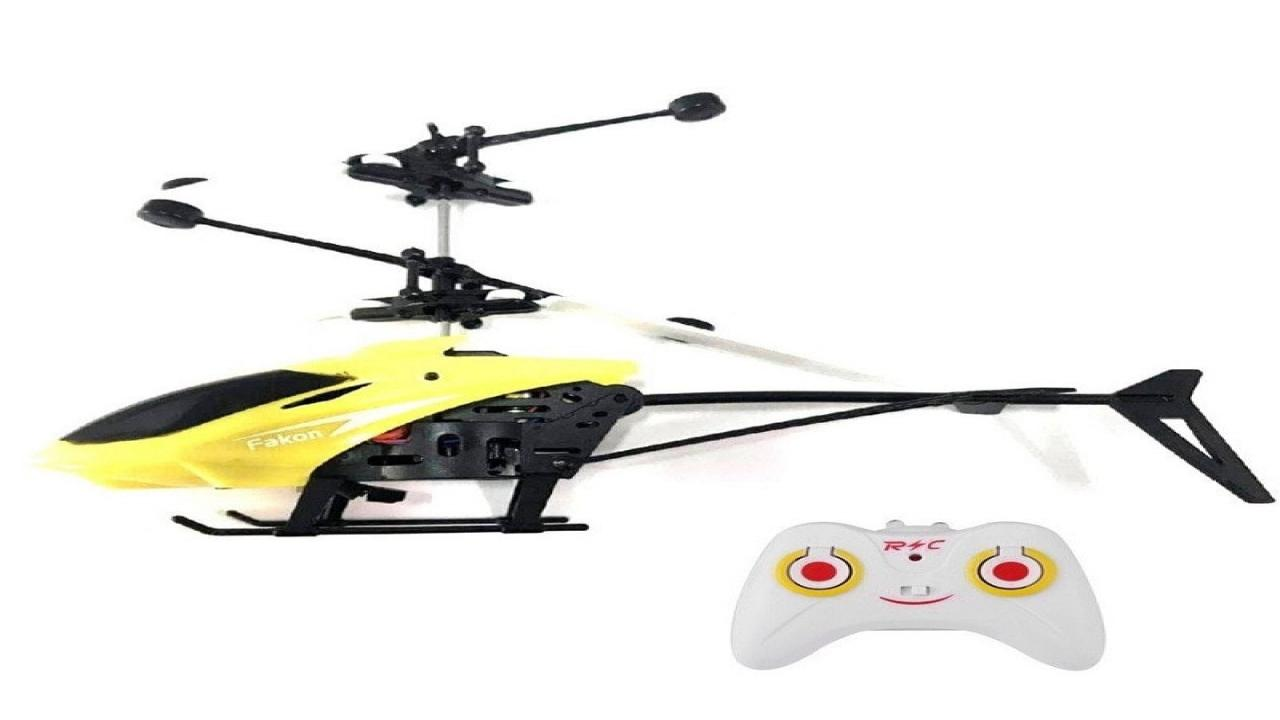Helicopter: (23, 84, 1280, 543)
